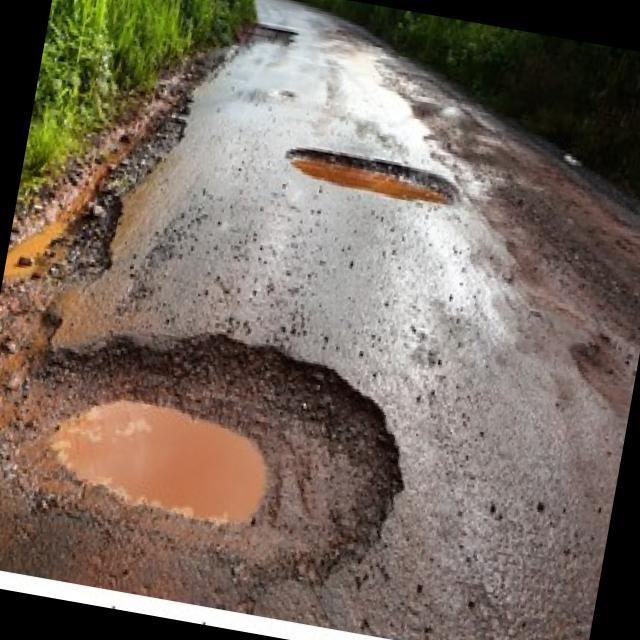Pothole: (18, 296, 426, 626), (277, 142, 463, 212)
